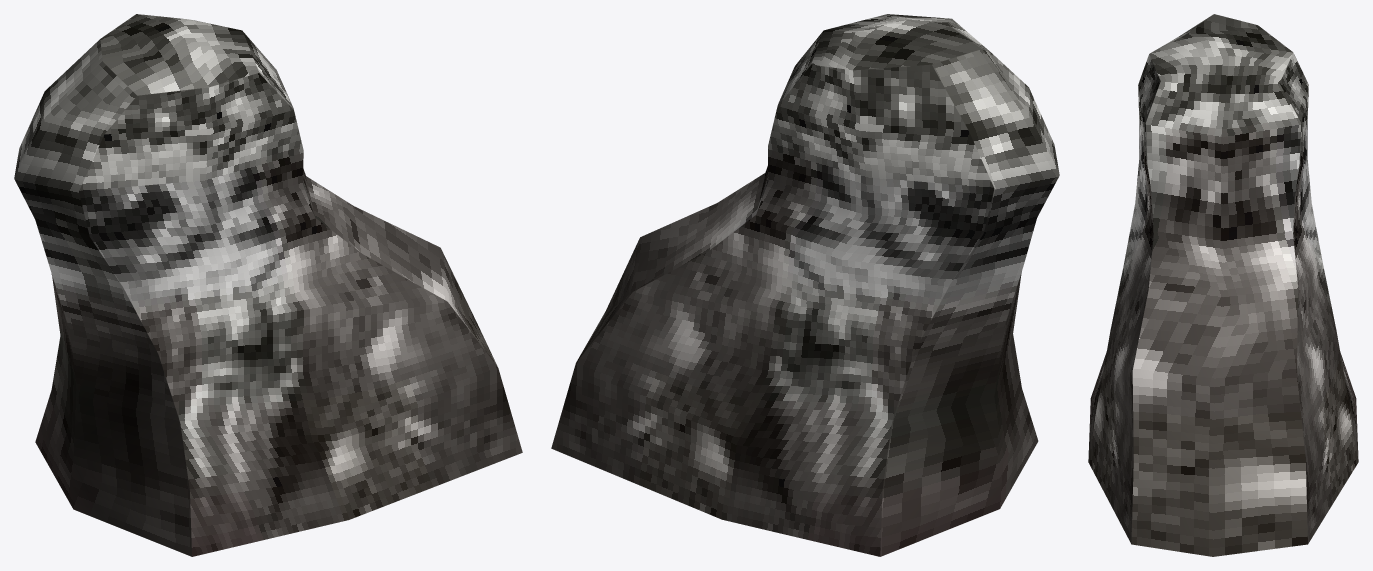
Rendered from shizi05.obj.
3 views of the same model, side by side, from view 1: azimuth 30°, elevation 25°; view 2: azimuth 150°, elevation 25°; view 3: azimuth 270°, elevation 25° (orthographic). The views are drawn at different scales.
Visible parts, largest first — view 1: shizi05; view 2: shizi05; view 3: shizi05.
Part boxes in pixels (x1,y1,x2,y2): shizi05: [14, 14, 522, 556]; shizi05: [551, 14, 1059, 556]; shizi05: [1088, 14, 1358, 556].
Bounding box in the file's own units: 23.24 × 20.76 × 13.27.
